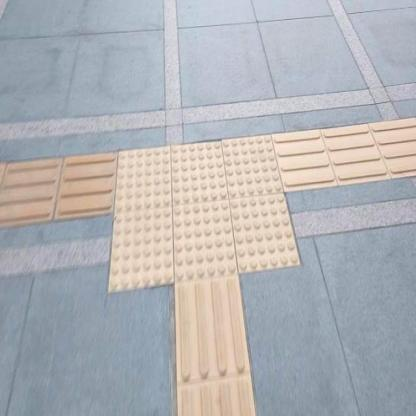podotacti: (84, 118, 326, 316), (172, 284, 262, 415), (285, 113, 416, 192), (0, 145, 115, 230)
